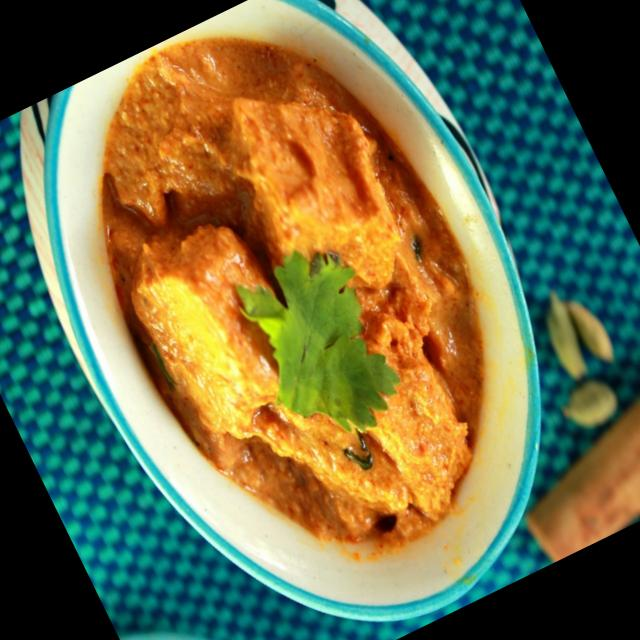ShahiPaneer: (17, 0, 565, 613)
